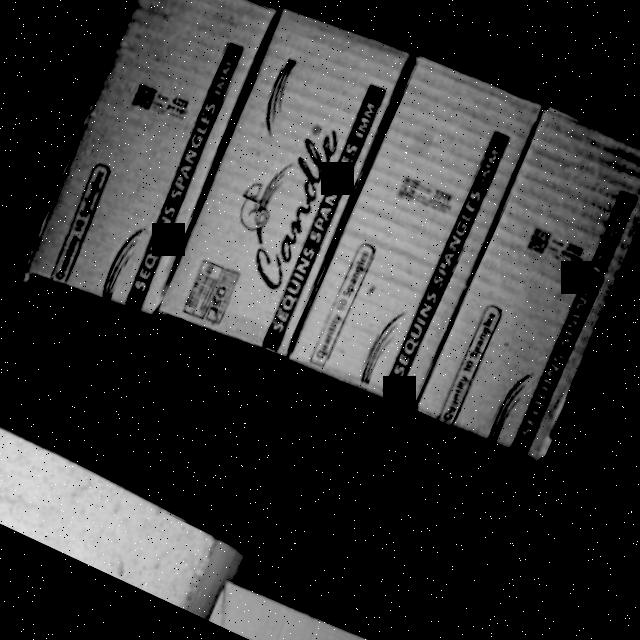box: (150, 12, 417, 366), (286, 58, 550, 408), (15, 0, 287, 317), (412, 106, 640, 466)
